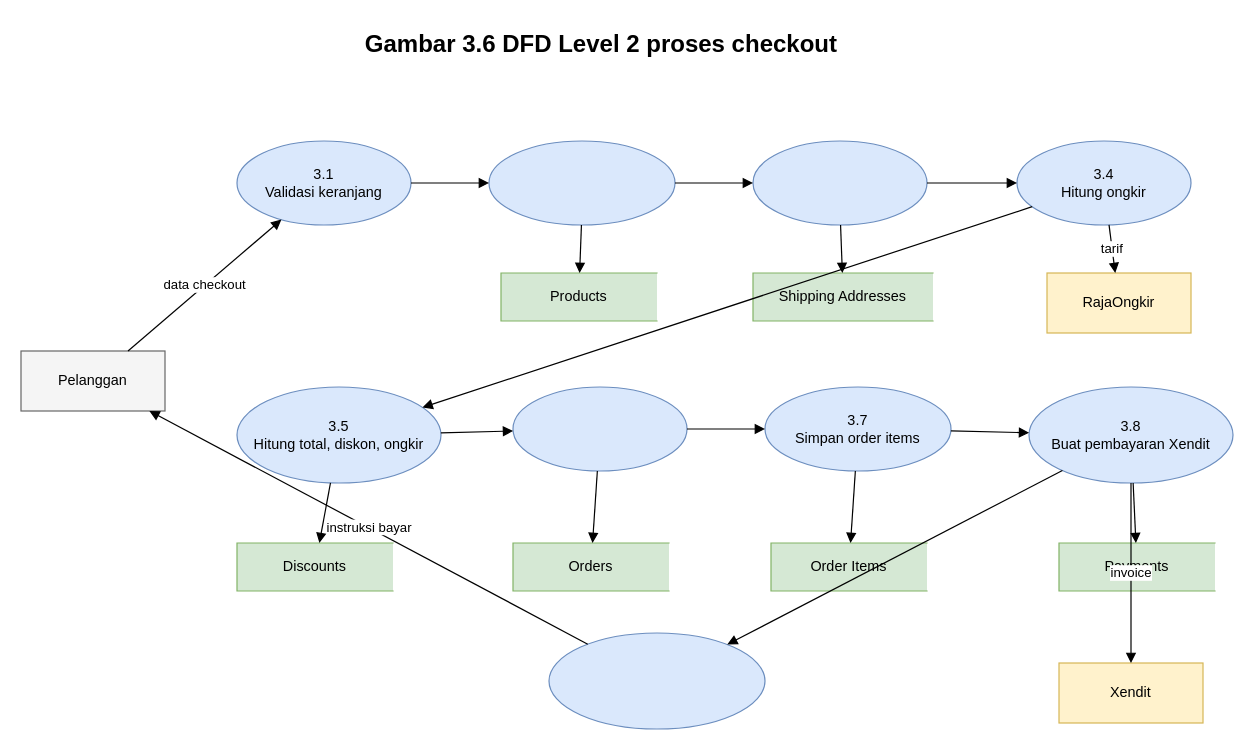
Image size: 1254x750. Some labels were removed from this diagram. Here are the shapes that lost their labels. From the top down, the centre of each, then its label:
At (581,182): "3.2 Ambil produk dan stok".
At (839,182): "3.3 Validasi alamat".
At (599,428): "3.6 Buat order".
At (656,680): "3.9 Kirim instruksi pembayaran".
